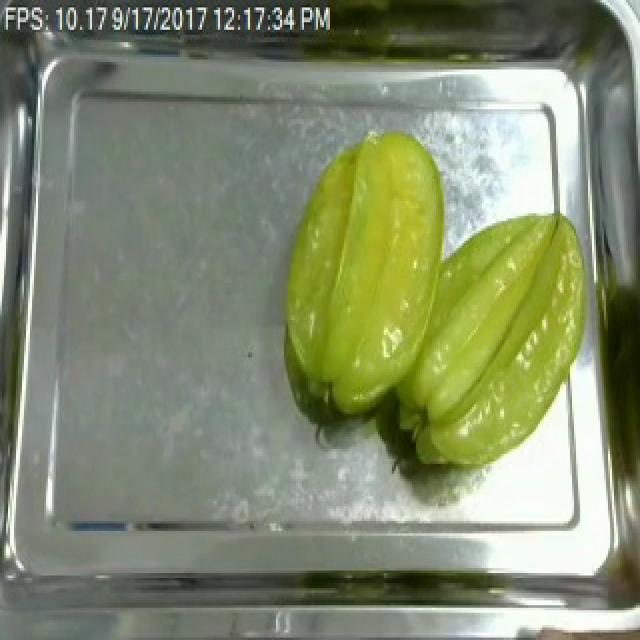fruit: (258, 208, 604, 476)
